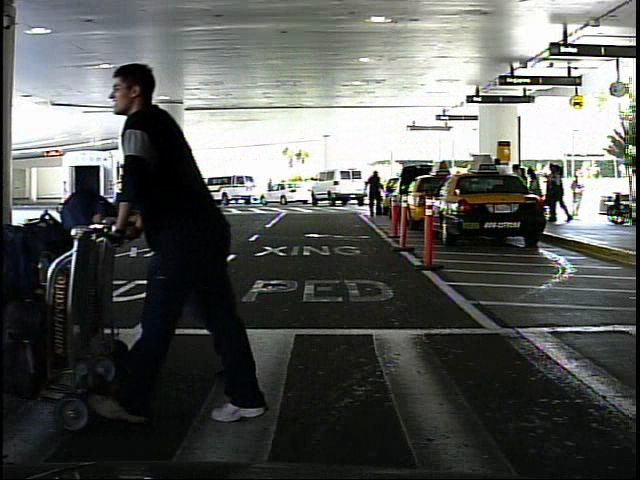person: (113, 46, 281, 425), (364, 167, 387, 223), (571, 171, 588, 218), (112, 170, 130, 208)
